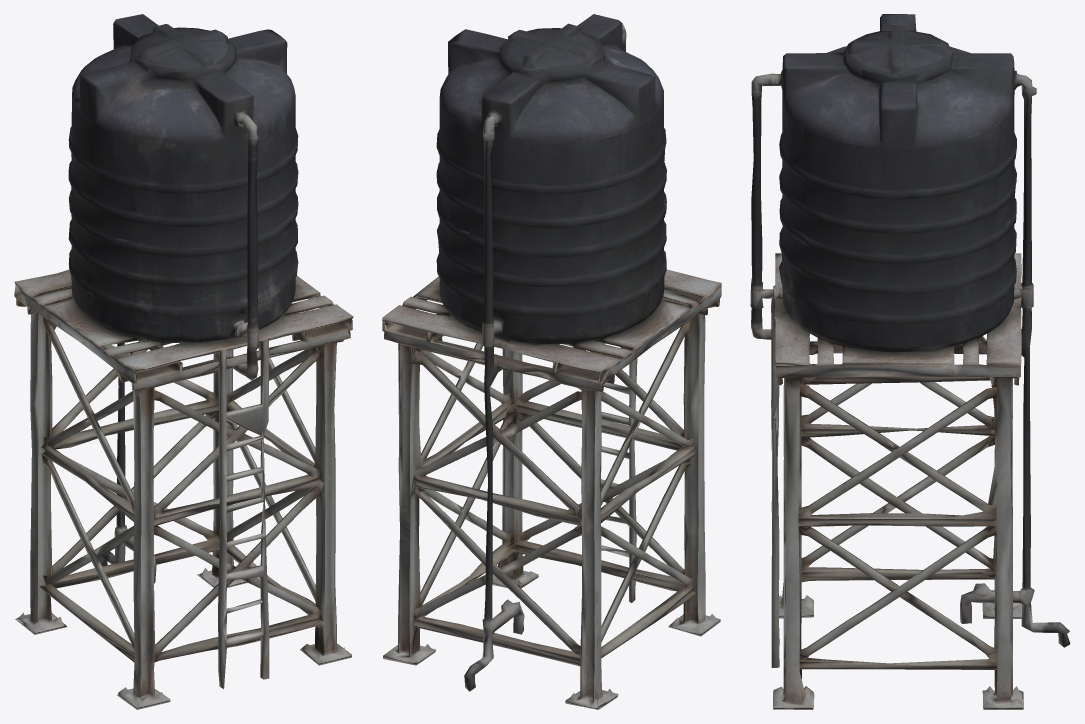
File: water_tank_stand.glb
3 views of the same model, side by side, from view 1: azimuth 30°, elevation 25°; view 2: azimuth 150°, elevation 25°; view 3: azimuth 270°, elevation 25° (orthographic). The views are drawn at different scales.
Parts seen in each view (by area): view 1: tripo_node_9e63c51b-647e-4af0-8f2a-6a19254d0757; view 2: tripo_node_9e63c51b-647e-4af0-8f2a-6a19254d0757; view 3: tripo_node_9e63c51b-647e-4af0-8f2a-6a19254d0757.
Boxes of the visible parts, <box> form: tripo_node_9e63c51b-647e-4af0-8f2a-6a19254d0757: <box>14,14,353,709</box>; tripo_node_9e63c51b-647e-4af0-8f2a-6a19254d0757: <box>382,14,721,709</box>; tripo_node_9e63c51b-647e-4af0-8f2a-6a19254d0757: <box>750,14,1070,709</box>.
Size of the model in its own units: 0.3879 by 1 by 0.4726.
Materials: 1 (1 with a texture image).
